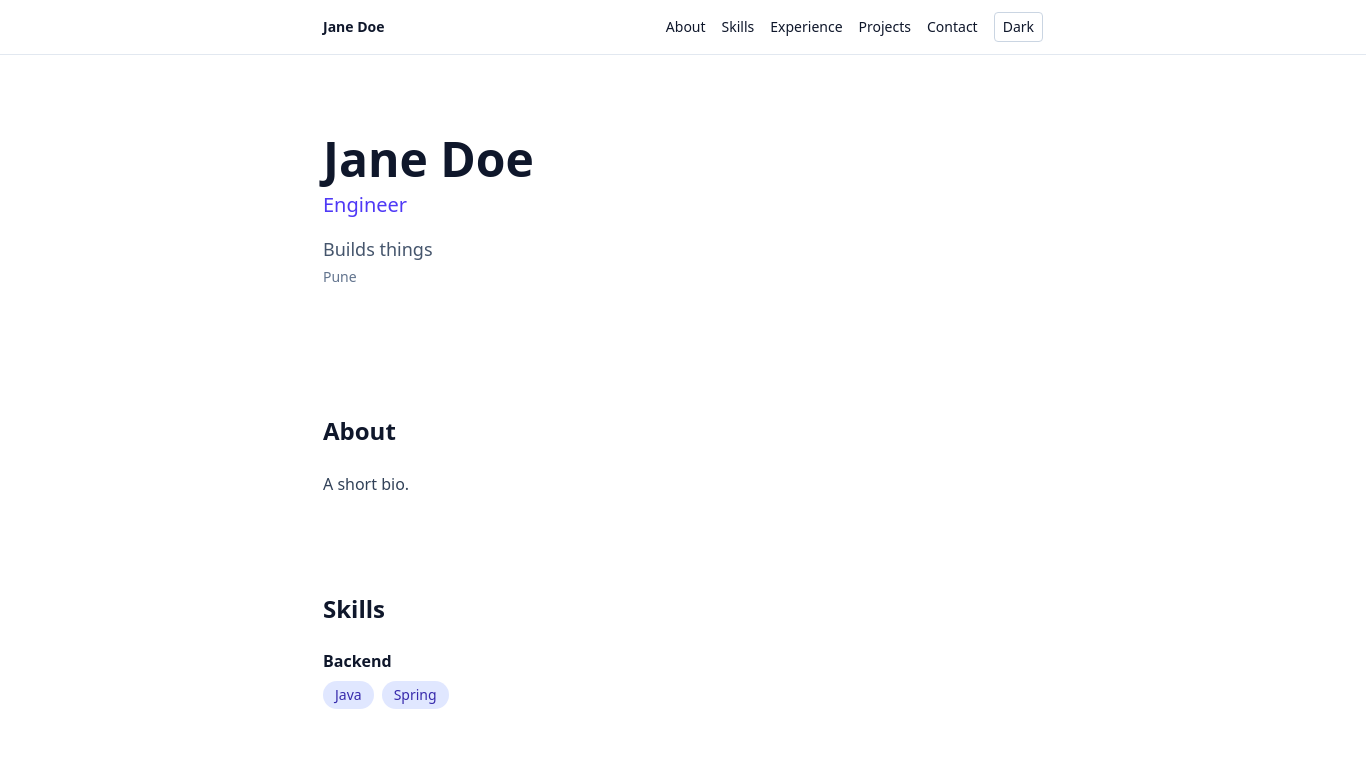
Test: App › toggles the dark class when the theme button is clicked
The image size is (1366, 768).
Later steps or results of the test are not shown.
Step 1. Click the button with aria-label "Toggle theme" → (1018, 27), box [994, 12, 1043, 42]
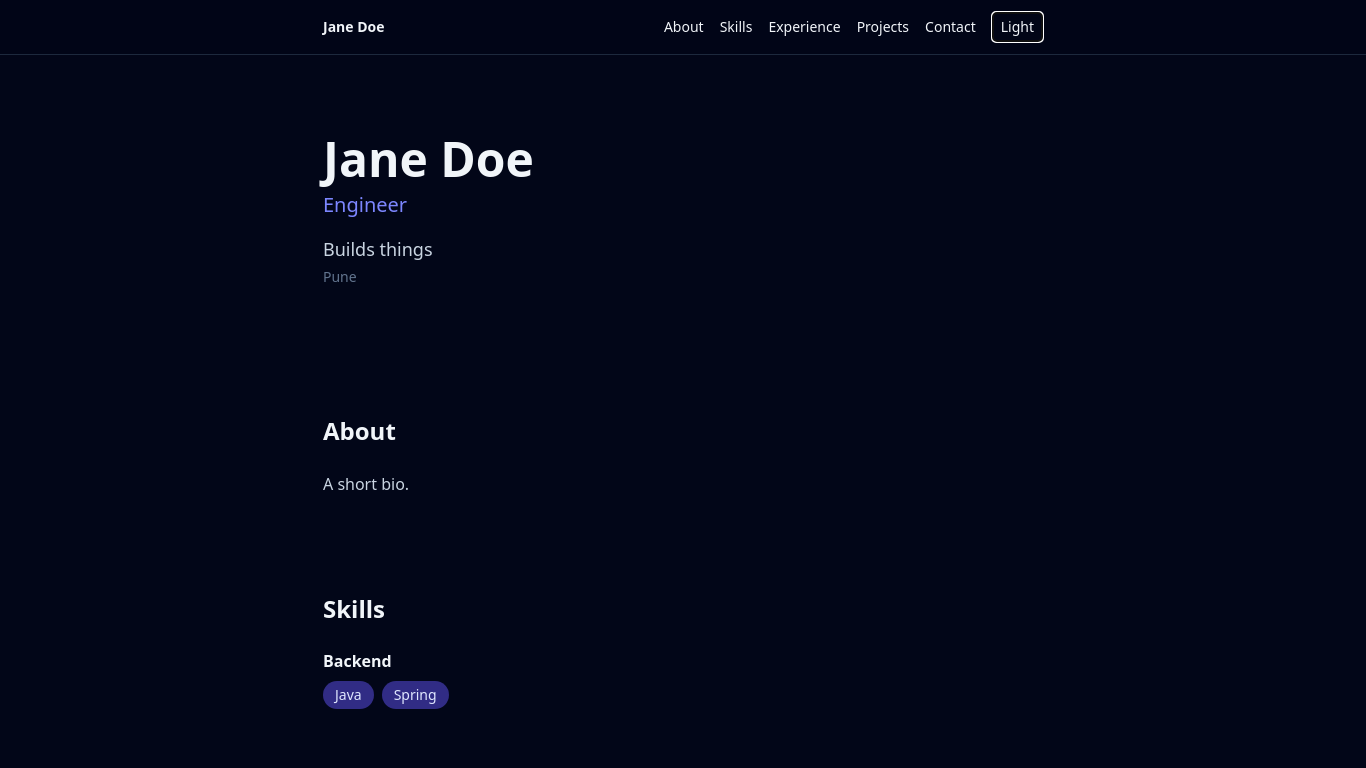
Now the button with aria-label "Toggle theme" reads "Light", box [992, 12, 1043, 42]
